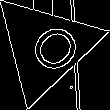O_SW: (12, 14, 80, 80)
